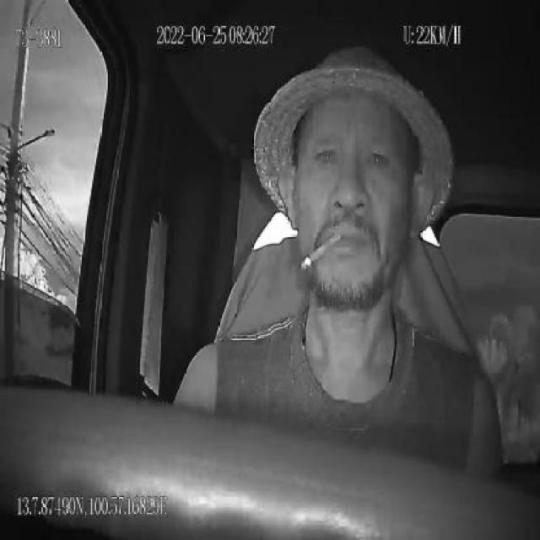smoking: (301, 230, 342, 271)
